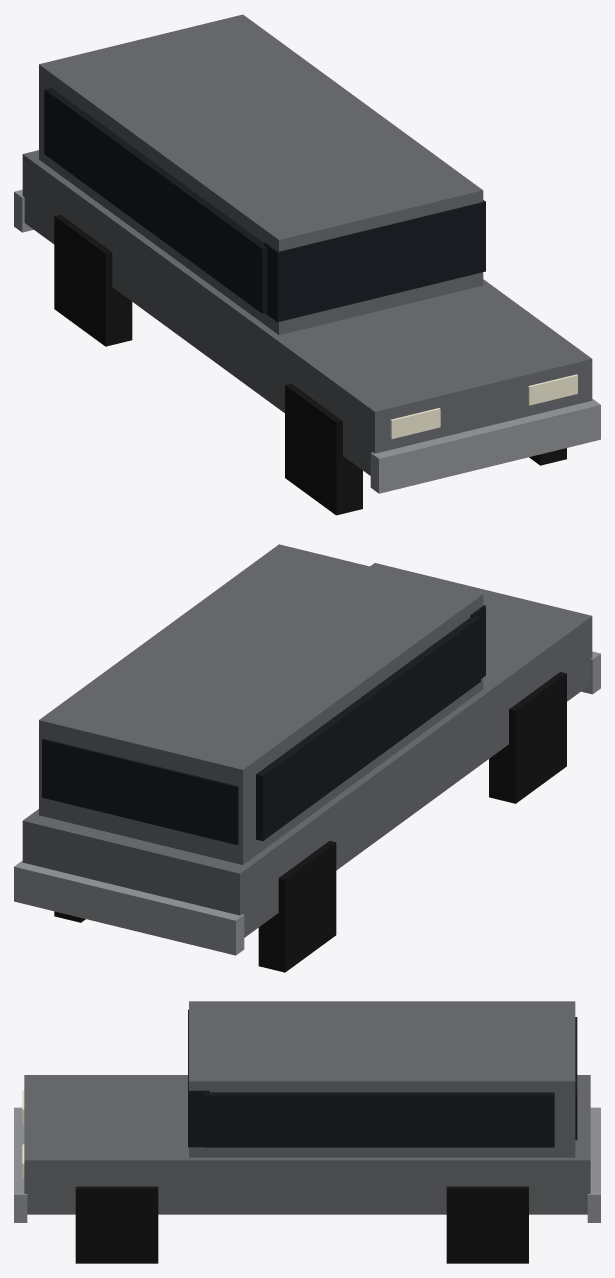
The model's file is suv_gray.dae.
3 views of the same model, one above another, from view 1: azimuth 30°, elevation 25°; view 2: azimuth 150°, elevation 25°; view 3: azimuth 270°, elevation 25° (orthographic). The views are drawn at different scales.
Visible parts, largest first — view 1: marker; view 2: marker; view 3: marker.
Boxes of the visible parts, bbox=[...] form: marker: bbox=[14, 14, 600, 515]; marker: bbox=[14, 544, 600, 972]; marker: bbox=[14, 1001, 600, 1263].
Size of the model in its own units: 2.08 by 5.7 by 1.9.
